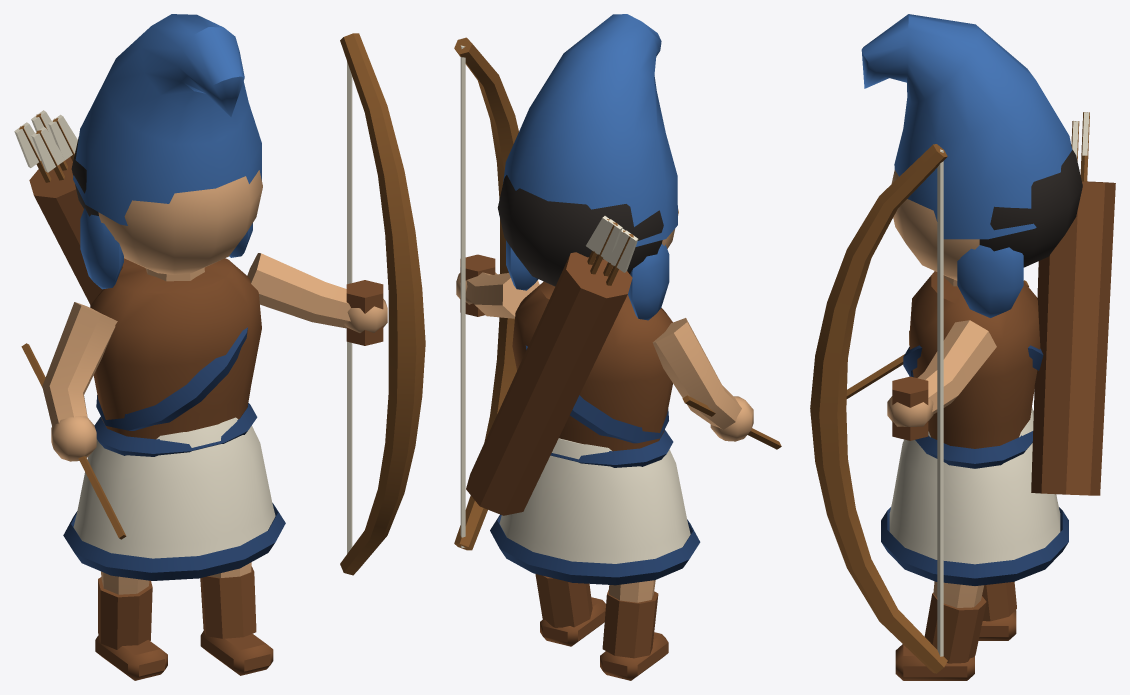
File: archer.glb
3 renders of one model, left to right at view 1: azimuth 30°, elevation 25°; view 2: azimuth 150°, elevation 25°; view 3: azimuth 270°, elevation 25°, orthographic. The views are drawn at different scales.
Visible parts, largest first — view 1: archer; view 2: archer; view 3: archer.
Part boxes in pixels (x1,y1,x2,y2): archer: (14, 14, 425, 680); archer: (454, 14, 781, 680); archer: (810, 14, 1115, 680).
Size of the model in its own units: 0.4183 by 0.815 by 0.3542.
